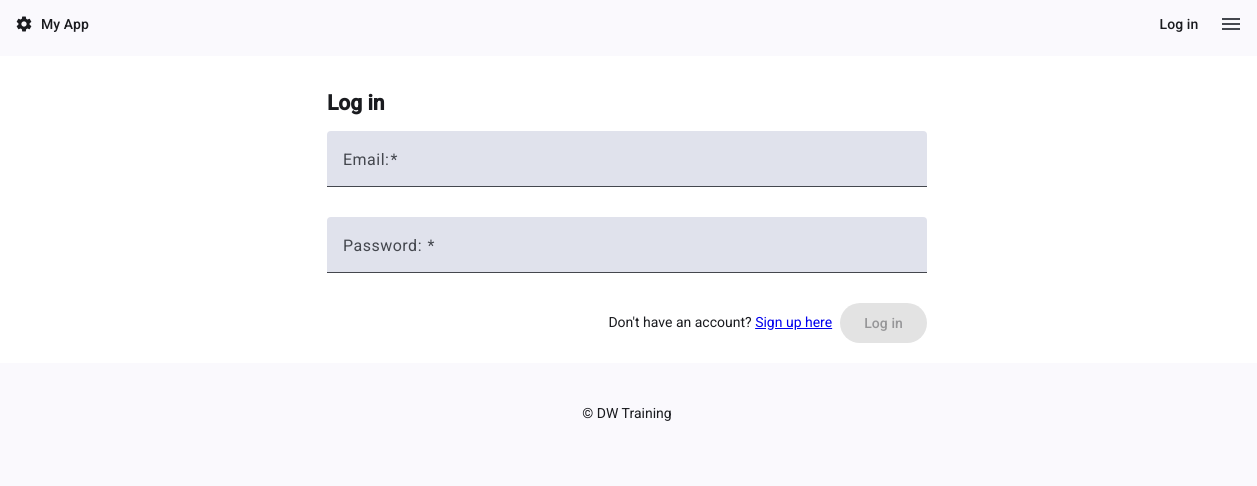
Test: Login › should return invalid credentials
Step 1. Type "john@doe.com" into the field labelled "Email:" → coordinates (627, 167), box [343,155,911,179]
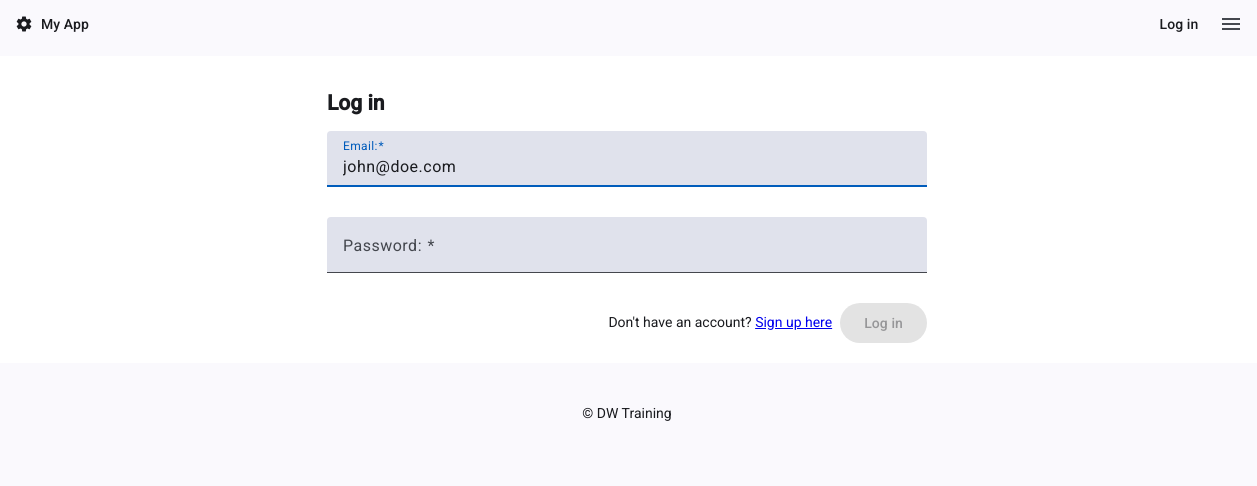
Step 2. Type "wrongpassword" into the password field labelled "Password:" → coordinates (627, 253), box [343,241,911,265]
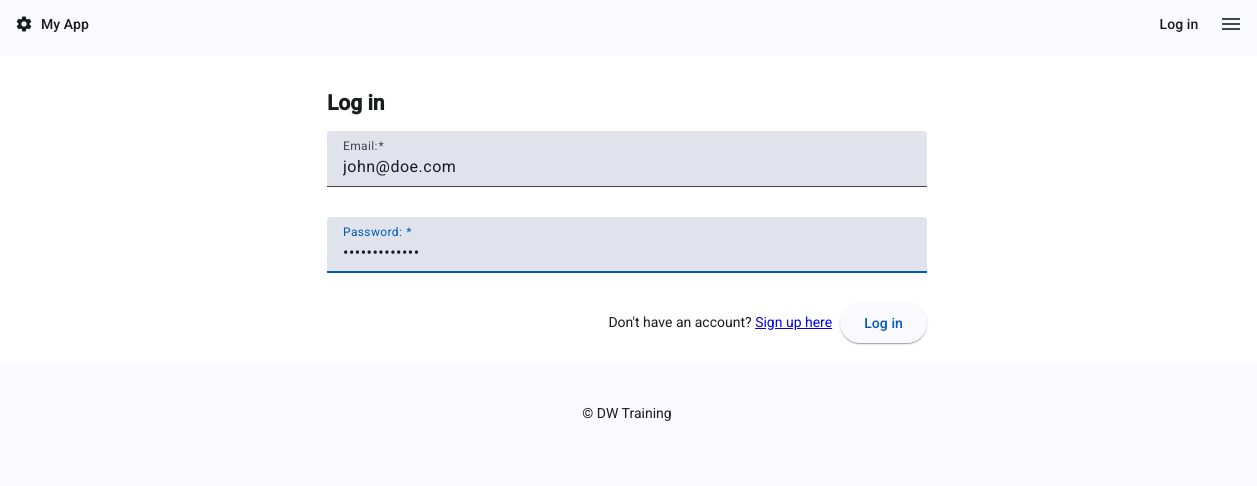
Step 3. Click the button "Log in" → coordinates (884, 323), box [840,303,927,343]
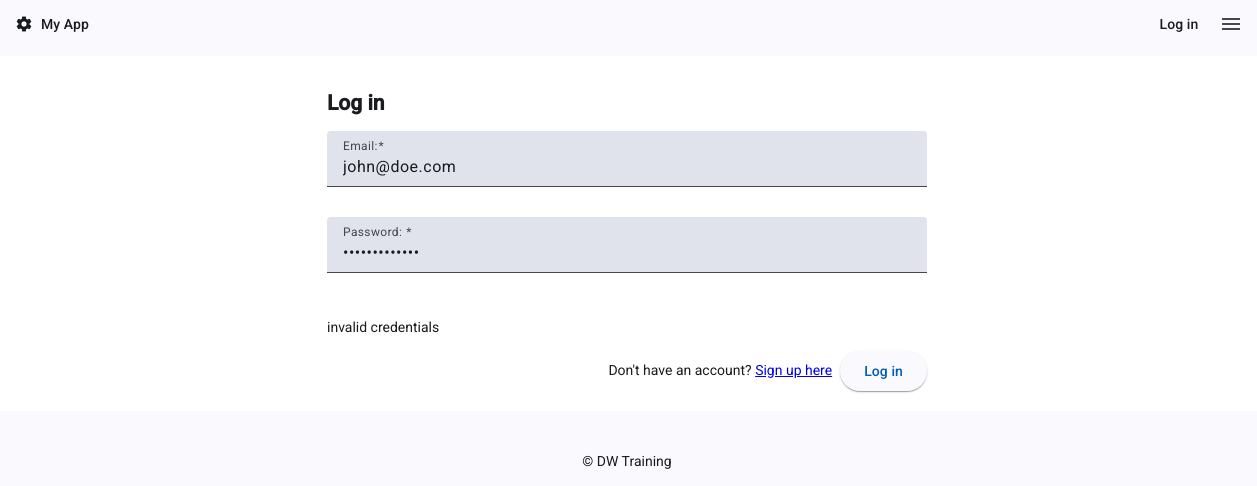
Check: the text "invalid credentials" is shown, box [327,319,439,335]
